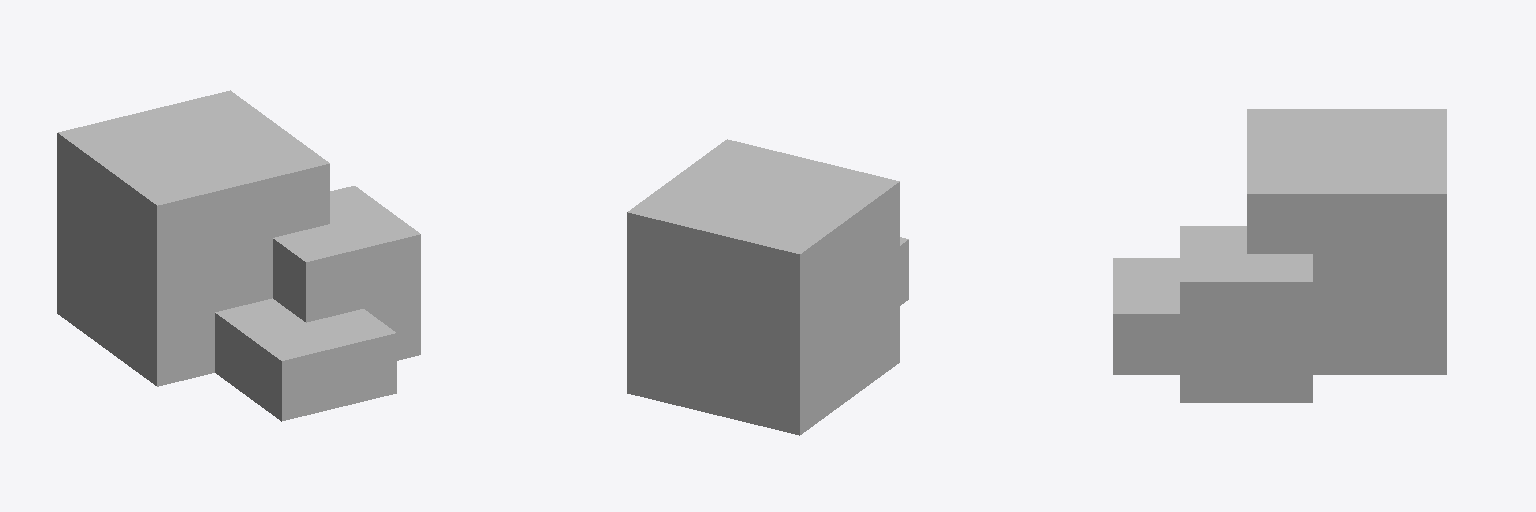
The model's file is Arbusto 4.obj.
3 views of the same model, side by side, from view 1: azimuth 30°, elevation 25°; view 2: azimuth 150°, elevation 25°; view 3: azimuth 270°, elevation 25° (orthographic).
Visible parts, largest first — view 1: object 1; view 2: object 1; view 3: object 1.
Part boxes in pixels (x1,y1,x2,y2): object 1: (57, 90, 420, 421); object 1: (627, 139, 908, 435); object 1: (1113, 109, 1446, 402).
Bounding box in the file's own units: 0.4 × 0.3 × 0.5.